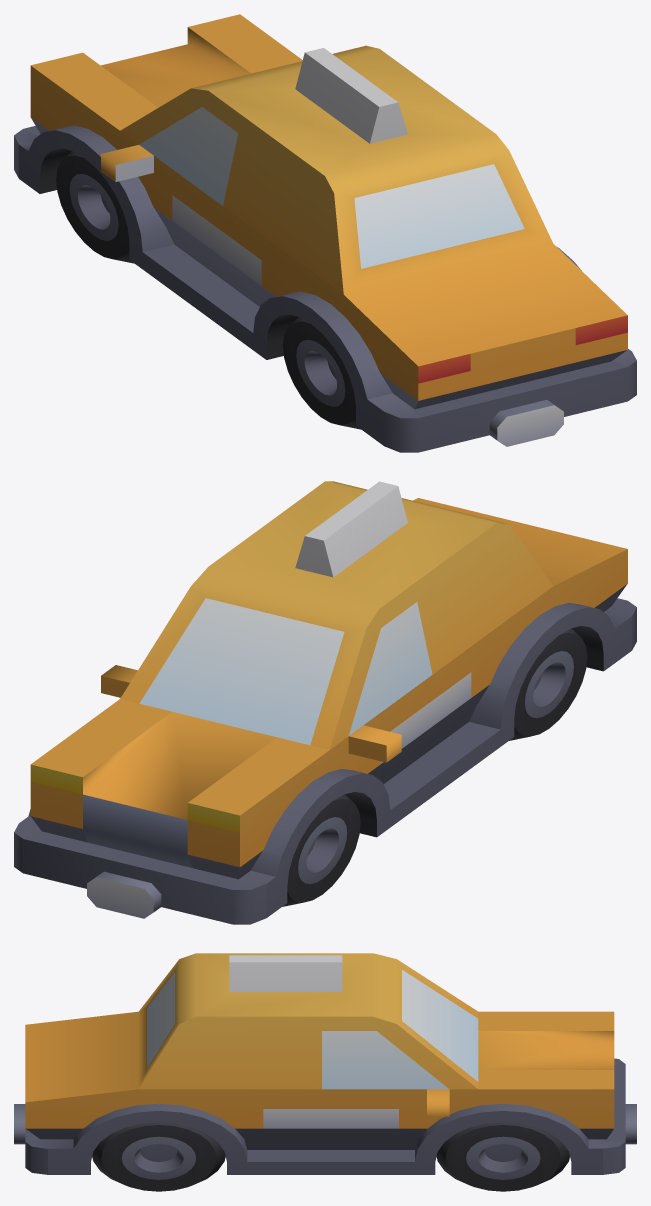
File: kenney-taxi.glb
The picture shows the model from 3 angles, top to bottom: view 1: azimuth 30°, elevation 25°; view 2: azimuth 150°, elevation 25°; view 3: azimuth 270°, elevation 25°; orthographic projection. The views are drawn at different scales.
Visible parts, largest first — view 1: body, wheel-front-left, wheel-back-left; view 2: body, wheel-front-left, wheel-back-left; view 3: body, wheel-front-right, wheel-back-right.
Part boxes in pixels (x1,y1,x2,y2): body: (14, 14, 636, 452); wheel-front-left: (56, 151, 134, 263); wheel-back-left: (283, 317, 360, 429); body: (14, 481, 636, 924); wheel-front-left: (282, 794, 360, 906); wheel-back-left: (509, 628, 587, 740); body: (14, 953, 636, 1174); wheel-front-right: (436, 1122, 569, 1191); wheel-back-right: (92, 1122, 225, 1191).
Bounding box in the file's own units: 1.85 × 1.6 × 4.6.
